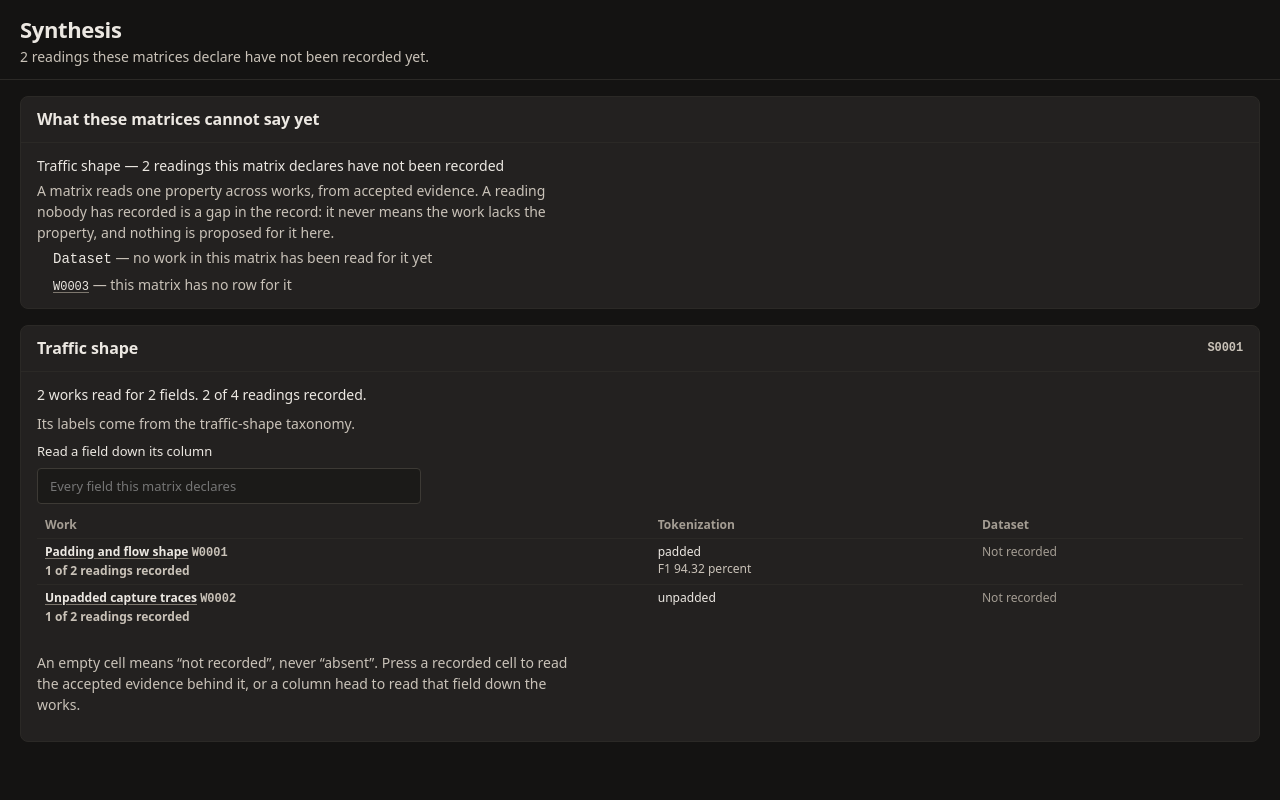
it: the synthesis page › says so when a recorded reading has no accepted evidence behind it
Expected: the text "unpadded" is shown, x1=658 y1=589 x2=716 y2=606
What coordinates should you click on to do the following:
click the button "unpadded"
I would click on:
 (687, 597)
Its box is x1=658 y1=589 x2=966 y2=606.
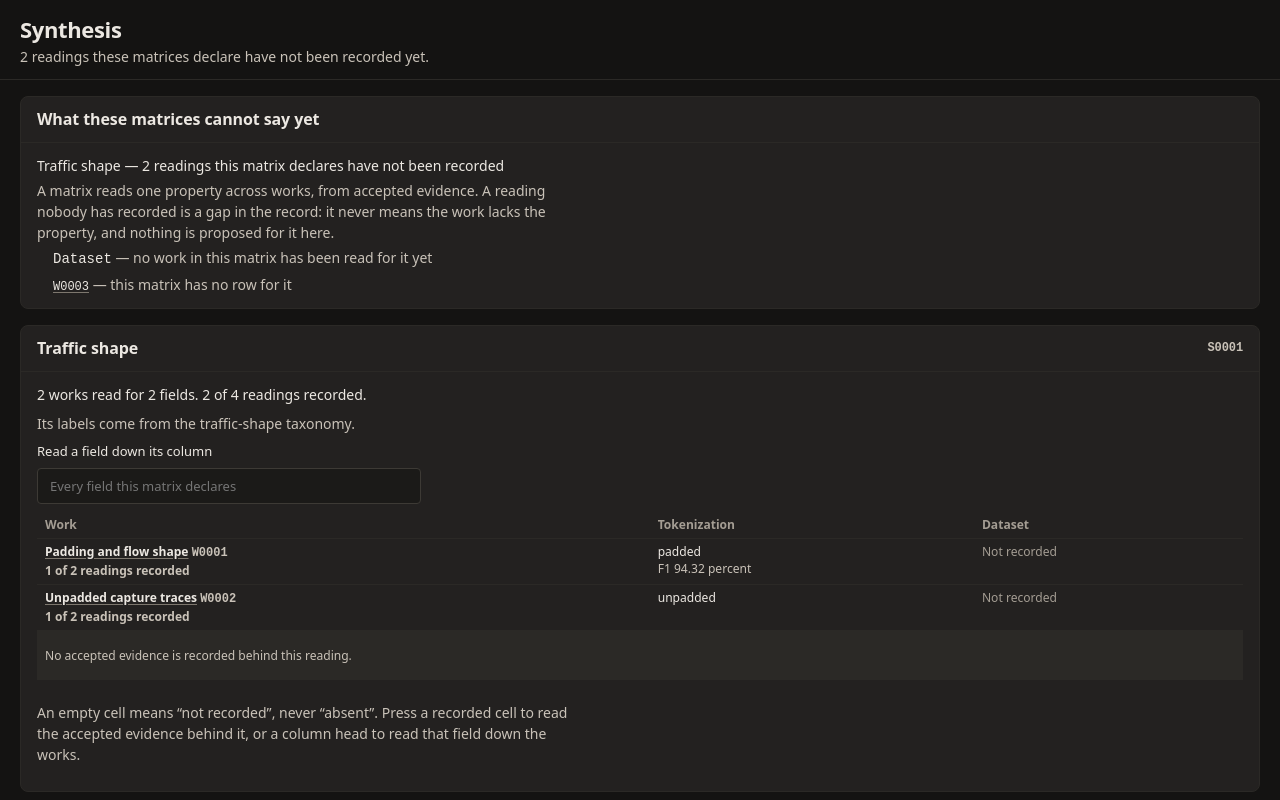
Expected: the text "No accepted evidence is recorded behind this reading." is shown, x1=45 y1=647 x2=352 y2=664
